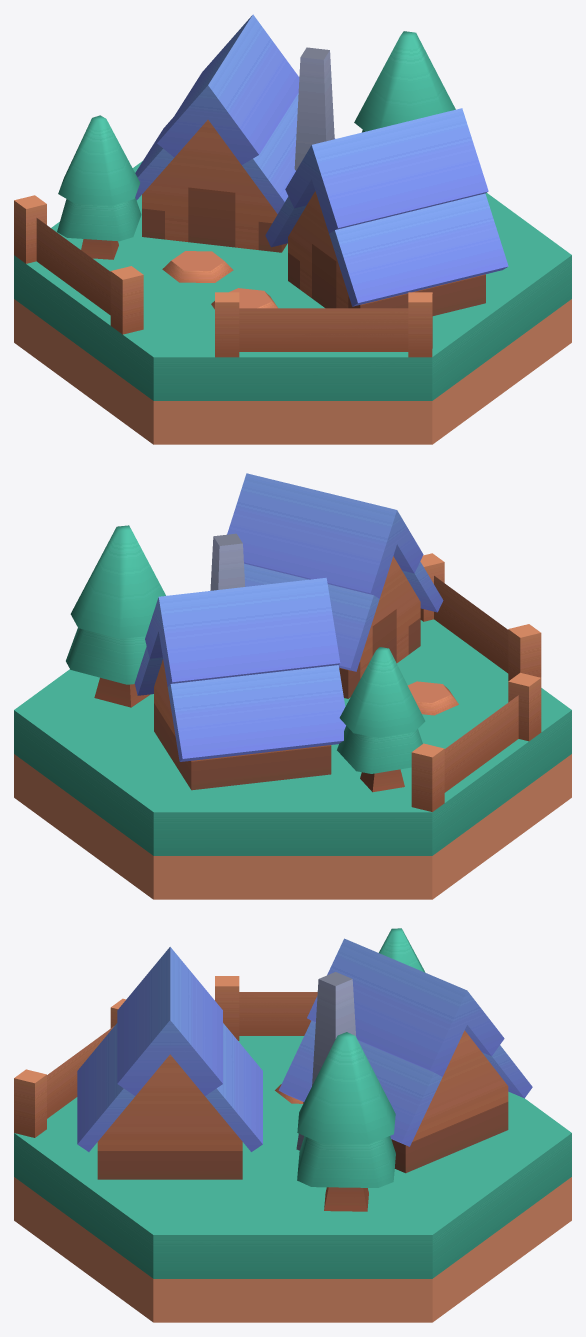
The model's file is building-village.glb.
3 views of the same model, one above another, from view 1: azimuth 30°, elevation 25°; view 2: azimuth 150°, elevation 25°; view 3: azimuth 270°, elevation 25° (orthographic).
Visible parts, largest first — view 1: building-village; view 2: building-village; view 3: building-village.
Boxes of the visible parts, bbox=[...] form: building-village: bbox=[14, 14, 571, 444]; building-village: bbox=[14, 473, 571, 899]; building-village: bbox=[14, 928, 571, 1322].
Bounding box in the file's own units: 1 × 0.6 × 1.15.
1 material, 1 textured.
